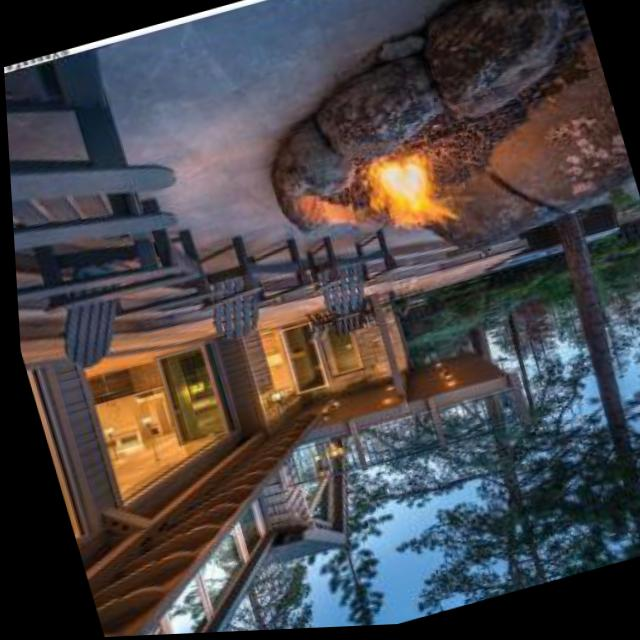Fire: (351, 136, 477, 266)
